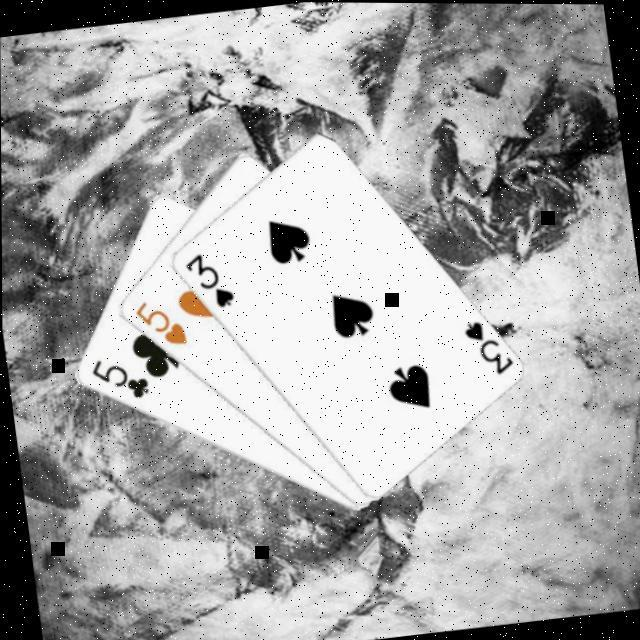3S: (180, 245, 238, 312), (459, 312, 517, 379)
5C: (85, 349, 153, 406)
5H: (130, 293, 190, 352)
